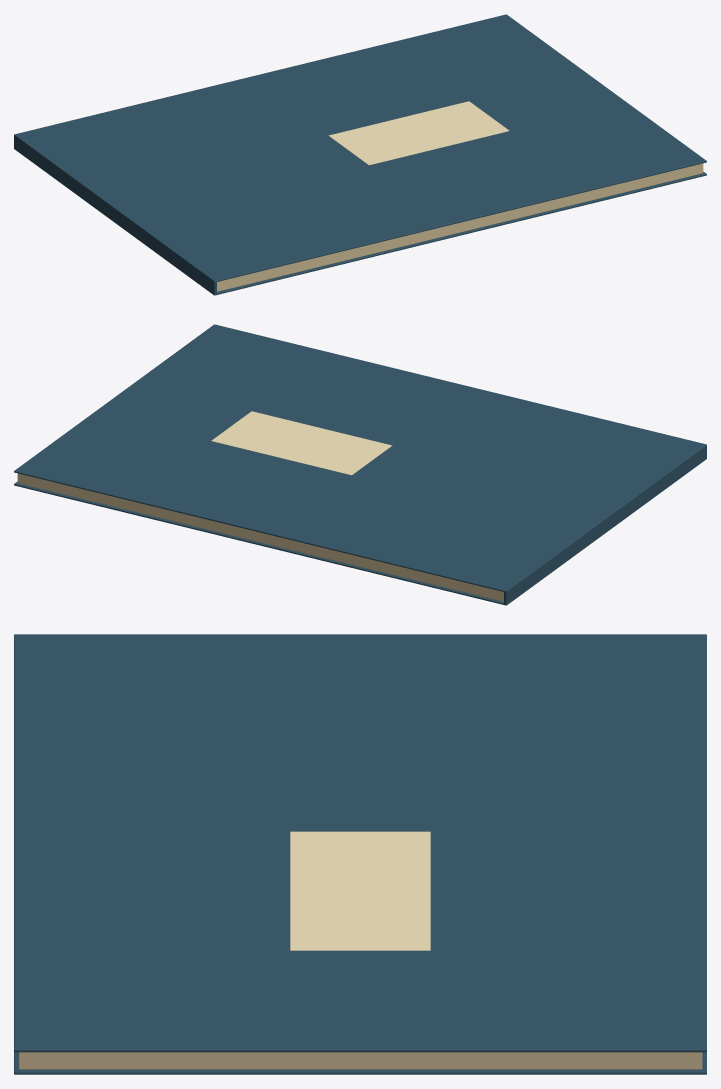
Rendered from notebook.glb.
3 renders of one model, top to bottom at view 1: azimuth 30°, elevation 25°; view 2: azimuth 150°, elevation 25°; view 3: azimuth 270°, elevation 25°, orthographic. The views are drawn at different scales.
Visible parts, largest first — view 1: notebook; view 2: notebook; view 3: notebook.
Part boxes in pixels (left/top/right/bottom): notebook: left=14, top=14, right=706, bottom=295; notebook: left=14, top=324, right=706, bottom=605; notebook: left=14, top=634, right=706, bottom=1074.
Bounding box in the file's own units: 0.21 × 0.00603 × 0.148.
